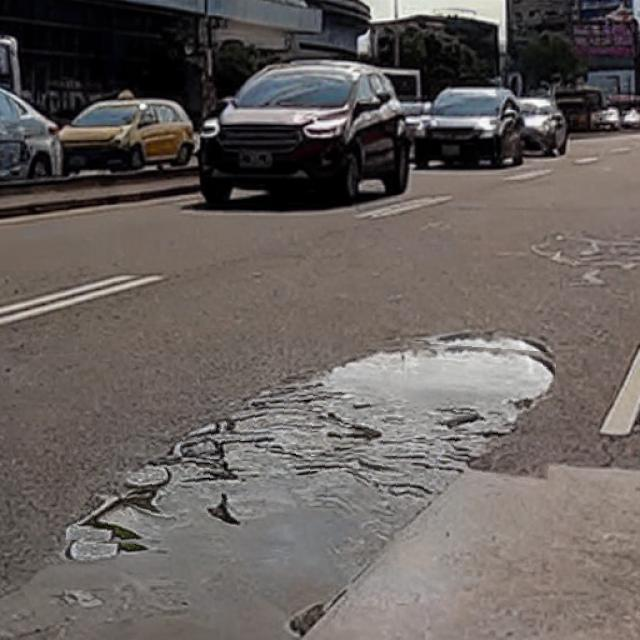puddle: (69, 328, 554, 565)
